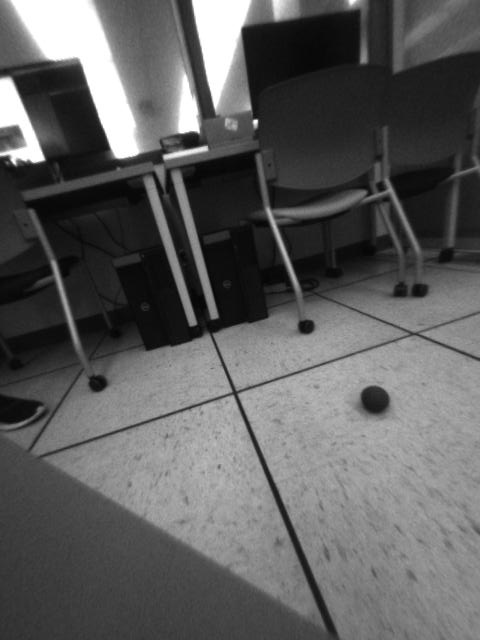dogtoy: (353, 380, 400, 422)
